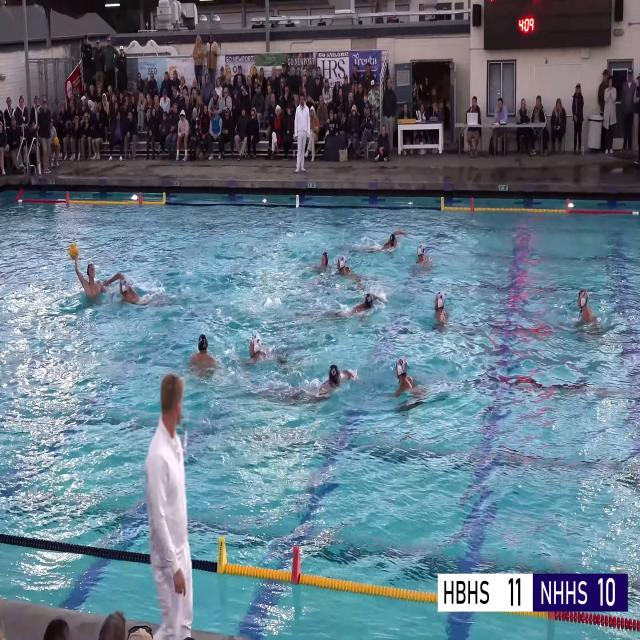ball: (69, 243, 78, 259), (54, 136, 59, 146)
